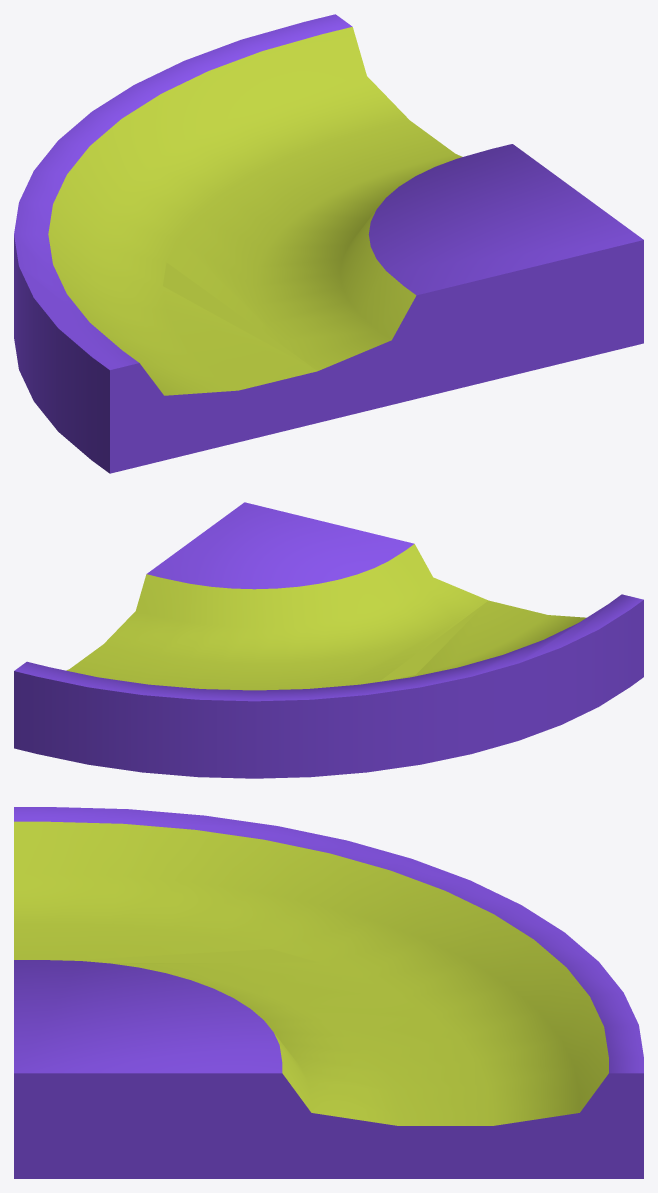
Rendered from curve_wide_solid_medium-col.dae.
3 renders of one model, top to bottom at view 1: azimuth 30°, elevation 25°; view 2: azimuth 150°, elevation 25°; view 3: azimuth 270°, elevation 25°, orthographic. The views are drawn at different scales.
Parts seen in each view (by area): view 1: curve_wide_solid_medium-col; view 2: curve_wide_solid_medium-col; view 3: curve_wide_solid_medium-col.
Boxes of the visible parts, <box> form: curve_wide_solid_medium-col: <box>14,14,643,473</box>; curve_wide_solid_medium-col: <box>14,502,643,778</box>; curve_wide_solid_medium-col: <box>14,807,643,1178</box>.
Bounding box in the file's own units: 2.7 × 2.7 × 0.5.
